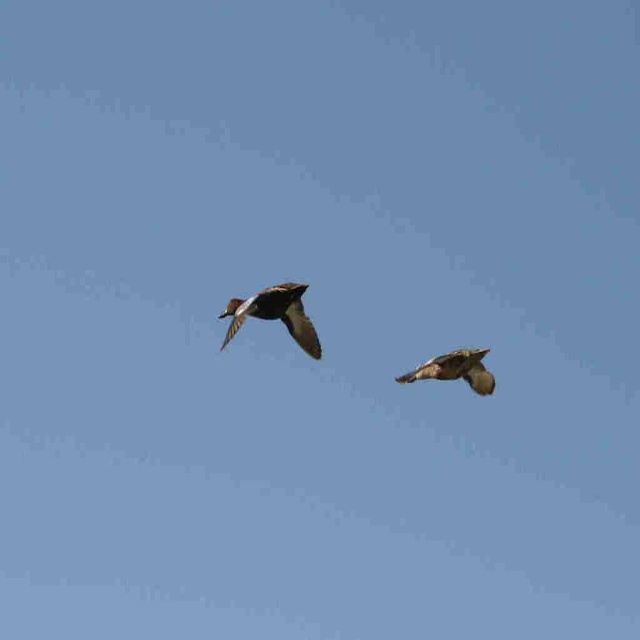Eagle: (214, 279, 322, 362), (395, 347, 498, 398)
